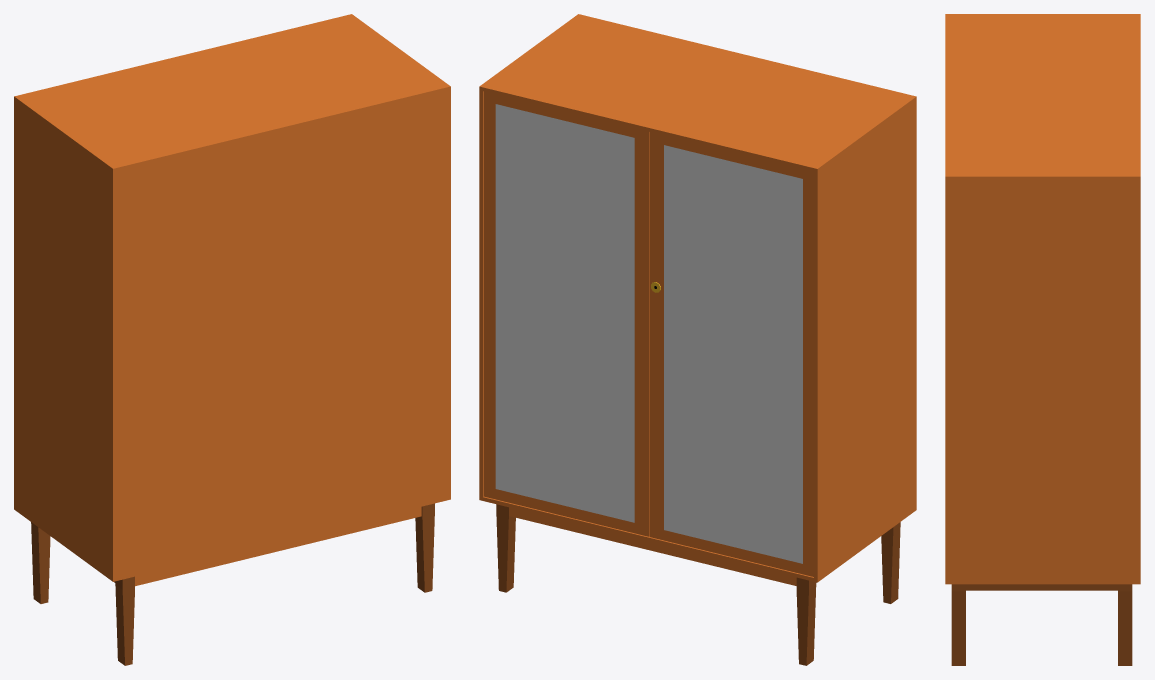
The model's file is prop_vitriini.fbx.
The picture shows the model from 3 angles, left to right: view 1: azimuth 30°, elevation 25°; view 2: azimuth 150°, elevation 25°; view 3: azimuth 270°, elevation 25°; orthographic projection.
Visible parts, largest first — view 1: Cube.001; view 2: Cube.001; view 3: Cube.001.
Part boxes in pixels (left/top/right/bottom): Cube.001: left=14, top=14, right=450, bottom=665; Cube.001: left=479, top=14, right=916, bottom=665; Cube.001: left=945, top=14, right=1140, bottom=665.
Bounding box in the file's own units: 297 × 423 × 151.
